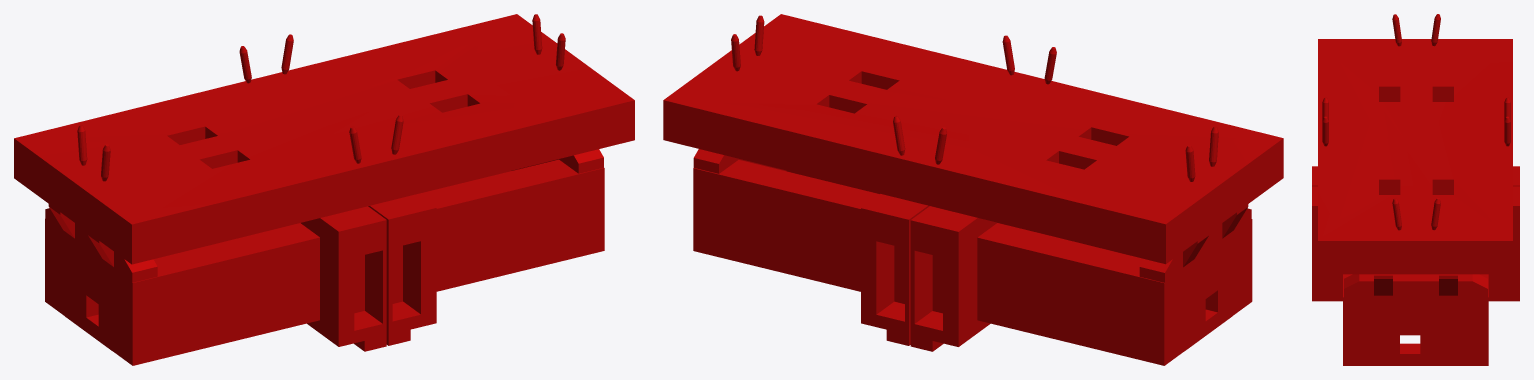
Rendered from ASCHoist.FBX.
3 renders of one model, left to right at view 1: azimuth 30°, elevation 25°; view 2: azimuth 150°, elevation 25°; view 3: azimuth 270°, elevation 25°, orthographic. The views are drawn at different scales.
Visible parts, largest first — view 1: rmg_hoist; view 2: rmg_hoist; view 3: rmg_hoist.
Part boxes in pixels (x1,y1,x2,y2): rmg_hoist: (14,14,634,365); rmg_hoist: (663,14,1283,365); rmg_hoist: (1312,14,1519,365).
Bounding box in the file's own units: 566 × 238 × 244.
